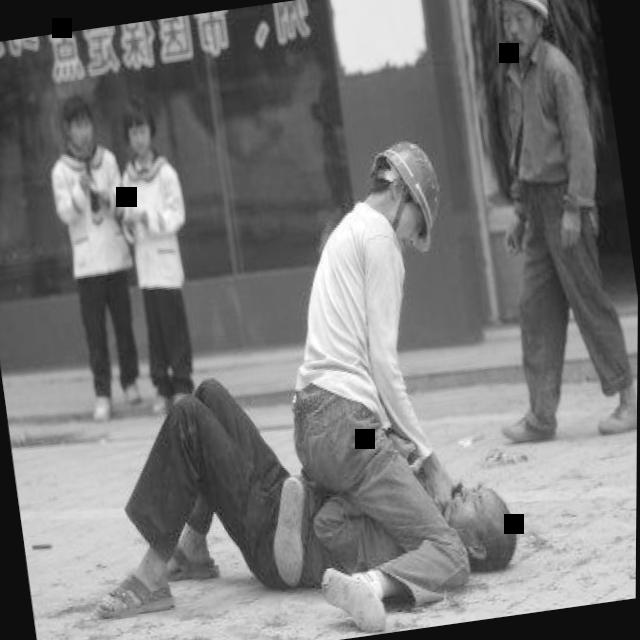Fall-Detected: (46, 337, 548, 640)
